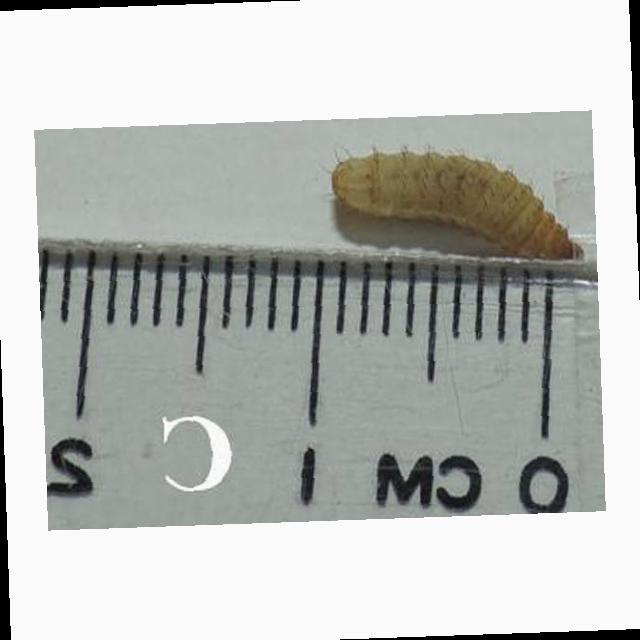Maggot: (325, 149, 584, 269)
